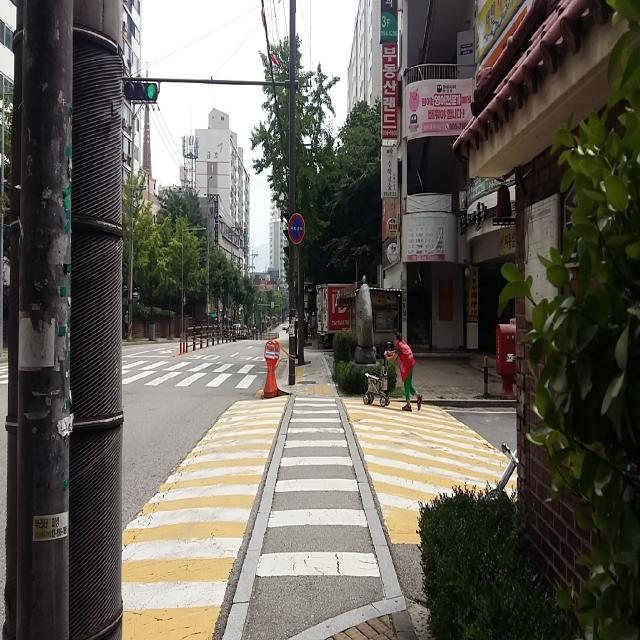횡단보도: (256, 396, 381, 578), (120, 354, 264, 390)
